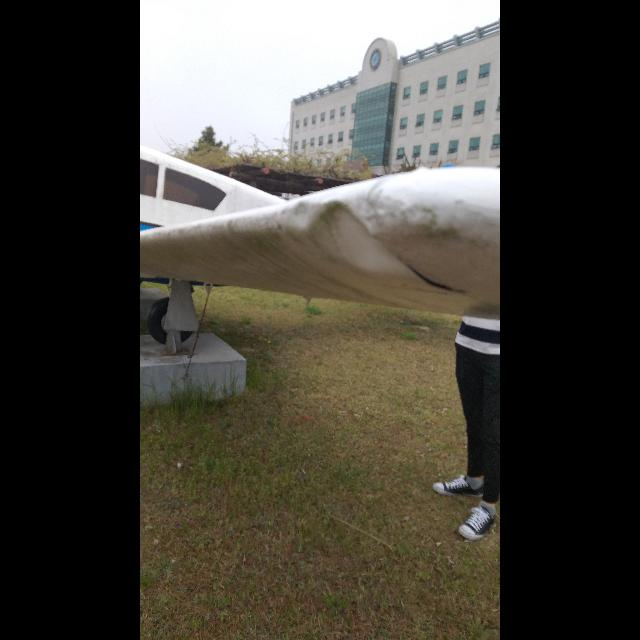dent: (312, 202, 413, 278), (284, 200, 318, 228)
